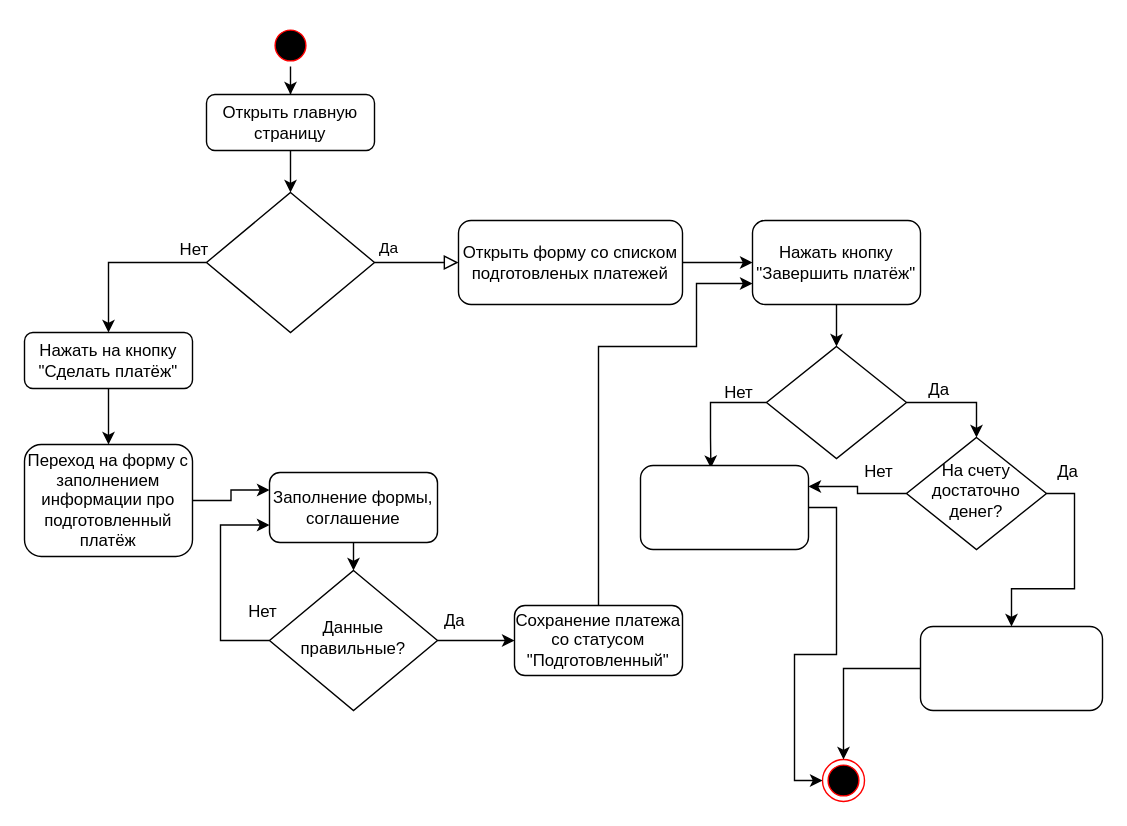
Image size: 1127x826. Some labels were removed from this diagram. Here are the shapes that lost their labels. From the top down, the box of each, then its label:
(205, 191, 374, 332): Завершить подготовленный платёж?
(765, 345, 906, 458): Согласится?
(639, 464, 808, 550): Платёж остаётся "подготовленным"
(919, 625, 1102, 710): Платеж переходит в статус совершенный, со счёта снимаются средства
